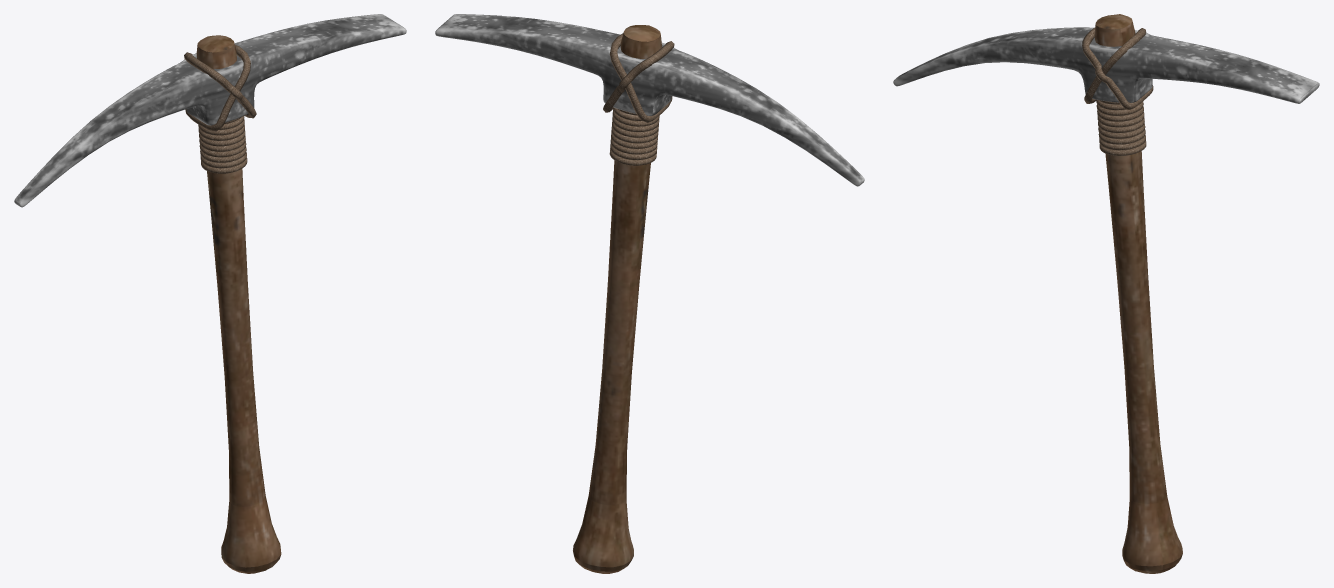
File: Picareta.glb
The picture shows the model from 3 angles, left to right: view 1: azimuth 30°, elevation 25°; view 2: azimuth 150°, elevation 25°; view 3: azimuth 330°, elevation 25°; orthographic projection.
Visible parts, largest first — view 1: Cube.002_ToolsWoodHandle_0; view 2: Cube.002_ToolsWoodHandle_0; view 3: Cube.002_ToolsWoodHandle_0.
Boxes of the visible parts, x1=… form: Cube.002_ToolsWoodHandle_0: x1=14, y1=14, x2=406, y2=573; Cube.002_ToolsWoodHandle_0: x1=435, y1=14, x2=864, y2=573; Cube.002_ToolsWoodHandle_0: x1=893, y1=14, x2=1319, y2=573.
Size of the model in its own units: 0.7695 by 1 by 0.1303.
3 materials, 3 textured.
